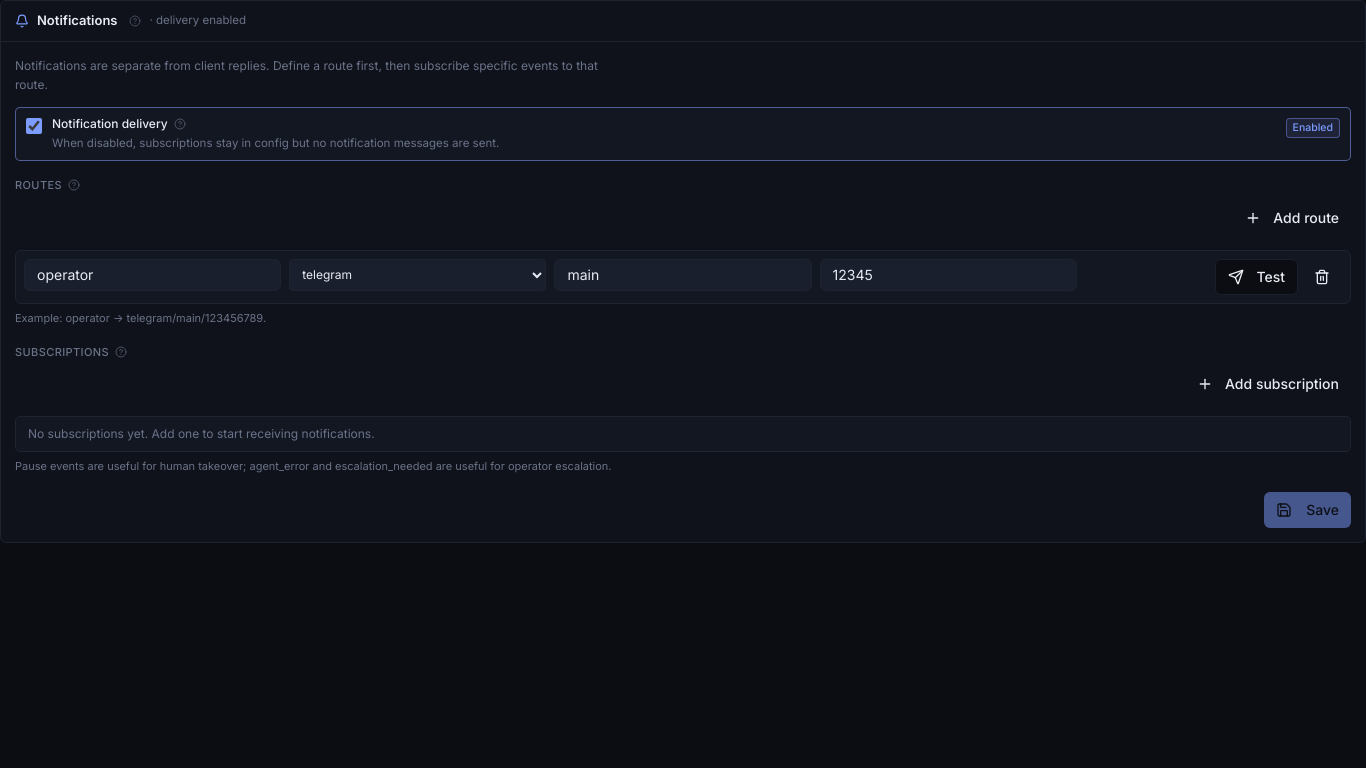
it: NotificationsCard › removes a route via the trash button
Click the button named "remove-route-operator": (1322, 277) [1302,259,1342,295]
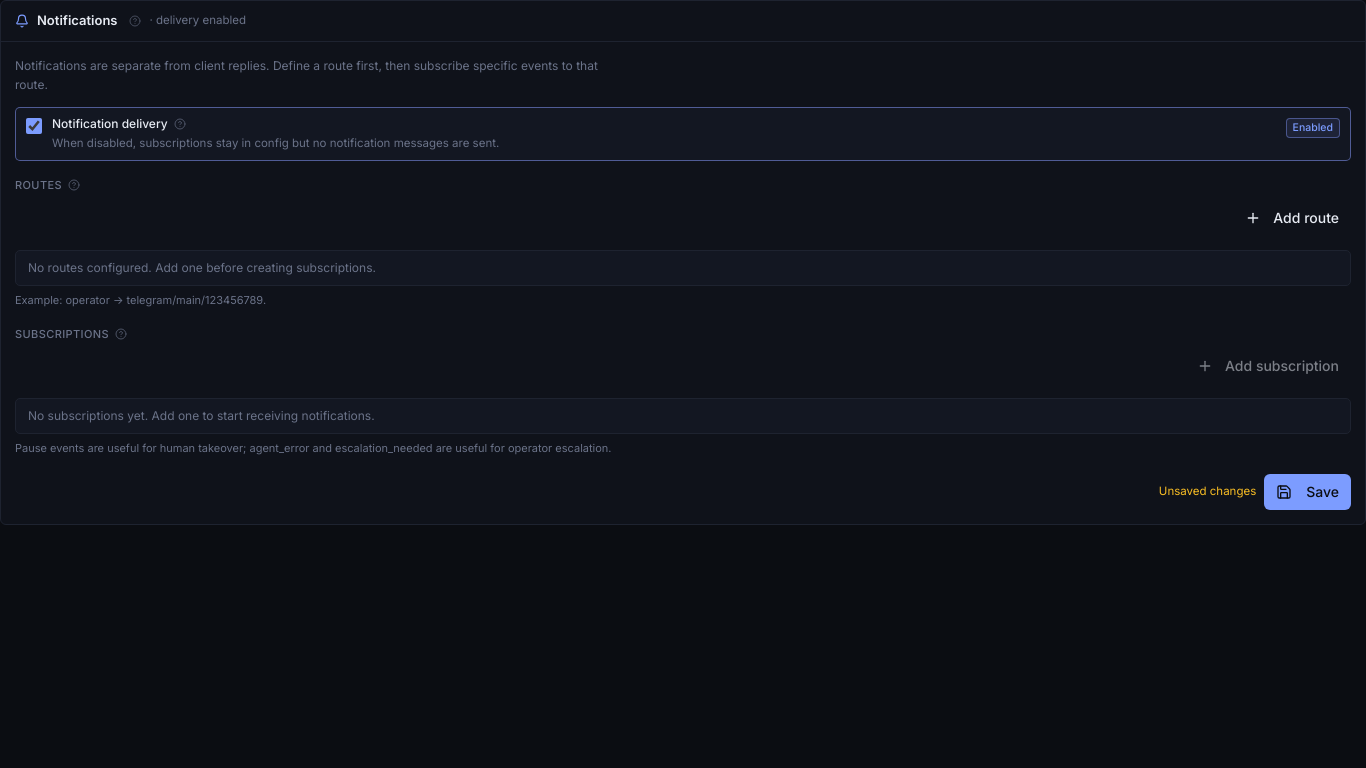
Now the element with test id "route-operator" is gone
